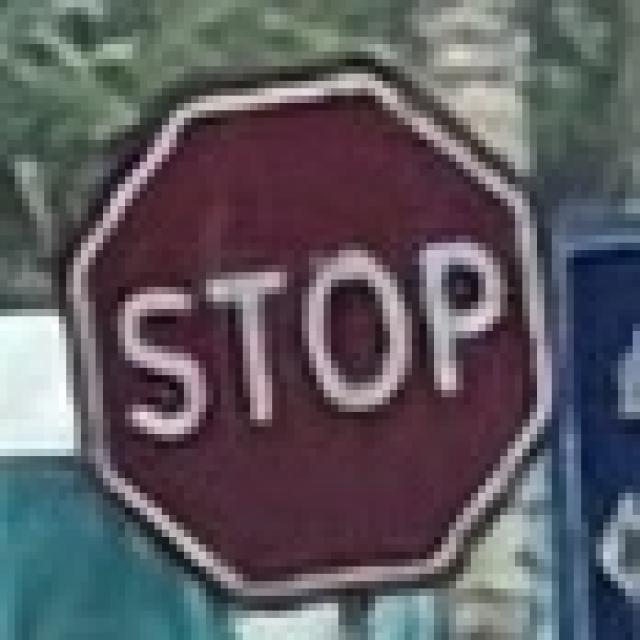STOP: (51, 53, 562, 614)
